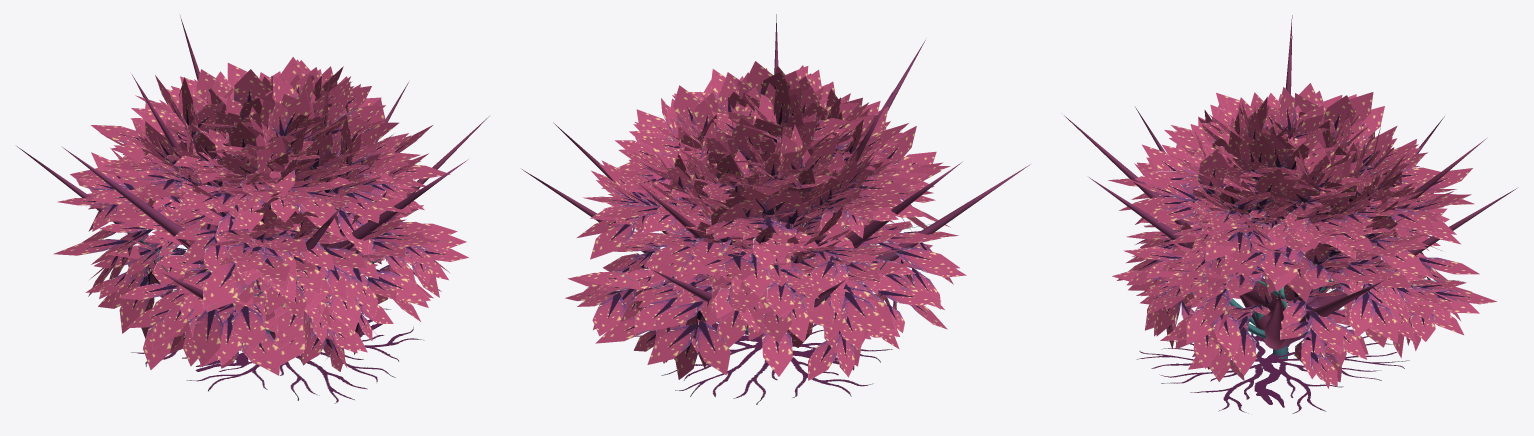
Rendered from BushSpikePlant.fbx.
The picture shows the model from 3 angles, left to right: view 1: azimuth 30°, elevation 25°; view 2: azimuth 150°, elevation 25°; view 3: azimuth 270°, elevation 25°; orthographic projection. The views are drawn at different scales.
Parts seen in each view (by area): view 1: leaves.004, Cylinder.017, Plane.011, Cylinder.016; view 2: leaves.004, Cylinder.017, Plane.011; view 3: leaves.004, Cylinder.017, Plane.011, tree.004.
Part boxes in pixels (left/top/right/bottom): leaves.004: left=53, top=57, right=468, bottom=375; Cylinder.017: left=17, top=15, right=489, bottom=339; Plane.011: left=131, top=308, right=424, bottom=403; Cylinder.016: left=132, top=75, right=260, bottom=287; leaves.004: left=565, top=61, right=966, bottom=380; Cylinder.017: left=522, top=14, right=1030, bottom=338; Plane.011: left=635, top=321, right=892, bottom=404; leaves.004: left=1108, top=83, right=1497, bottom=388; Cylinder.017: left=1064, top=36, right=1516, bottom=349; Plane.011: left=1136, top=320, right=1409, bottom=413; tree.004: left=1149, top=224, right=1463, bottom=358.
Size of the model in its own units: 831 by 584 by 835.
1 material, 1 textured.
